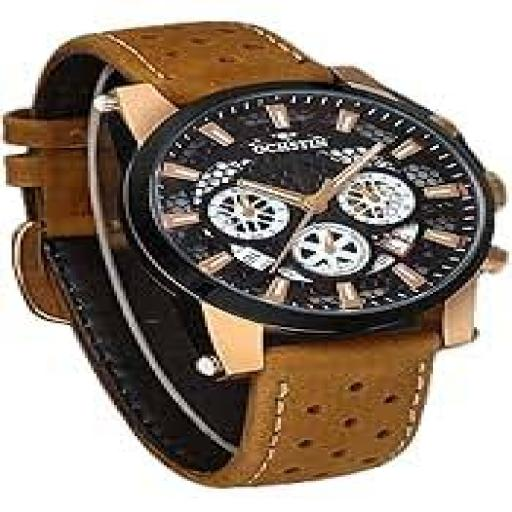KolSaati: (9, 16, 482, 458)
